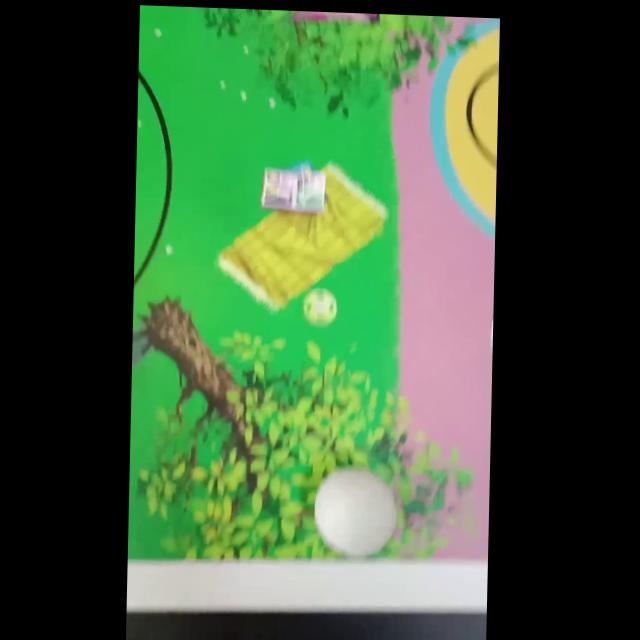white ball: (312, 465, 398, 558)
